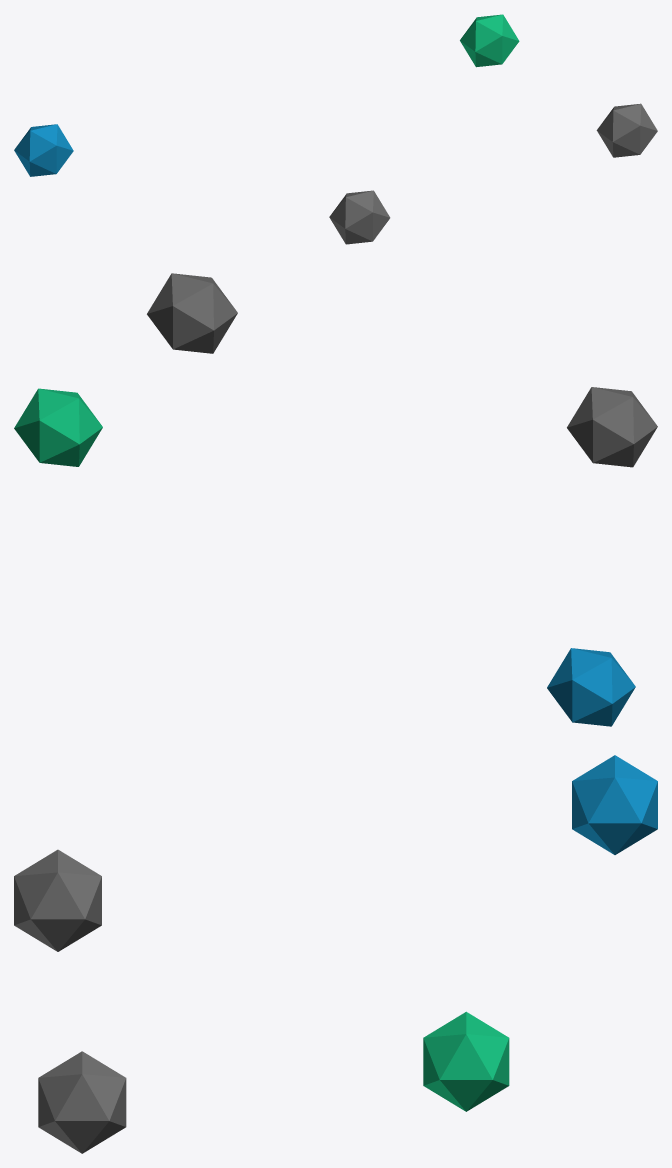
3 views of the same model, one above another, from view 1: azimuth 30°, elevation 25°; view 2: azimuth 150°, elevation 25°; view 3: azimuth 270°, elevation 25° (orthographic). The views are drawn at different scales.
Visible parts, largest first — view 1: 06_02_00; view 2: 06_02_00; view 3: 06_02_00.
Boxes of the visible parts, bbox=[...] form: 06_02_00: bbox=[14, 14, 657, 244]; 06_02_00: bbox=[14, 273, 657, 726]; 06_02_00: bbox=[14, 755, 657, 1153].
Bounding box in the file's own units: 0.5787 × 0.106 × 0.4067.
